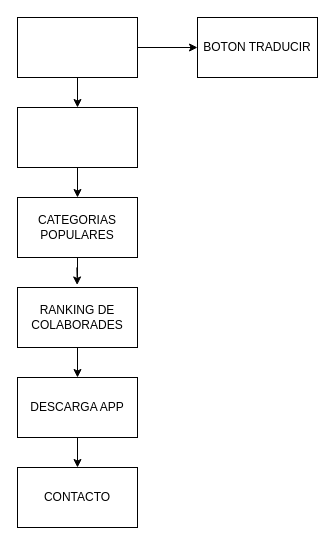
Some shapes in this 335 by 545 pixel diagram are drawn without their labels. The shapes that lost their labels are listed below. From the top down, each one's centre as x and y in pixels, then its label:
At (77,47): "NAVBAR".
At (77,137): "QUE ES FIXIT?".
